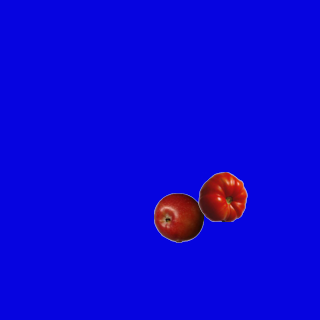Apple Braeburn: (153, 192, 203, 242)
Tomato 3: (197, 171, 247, 221)
